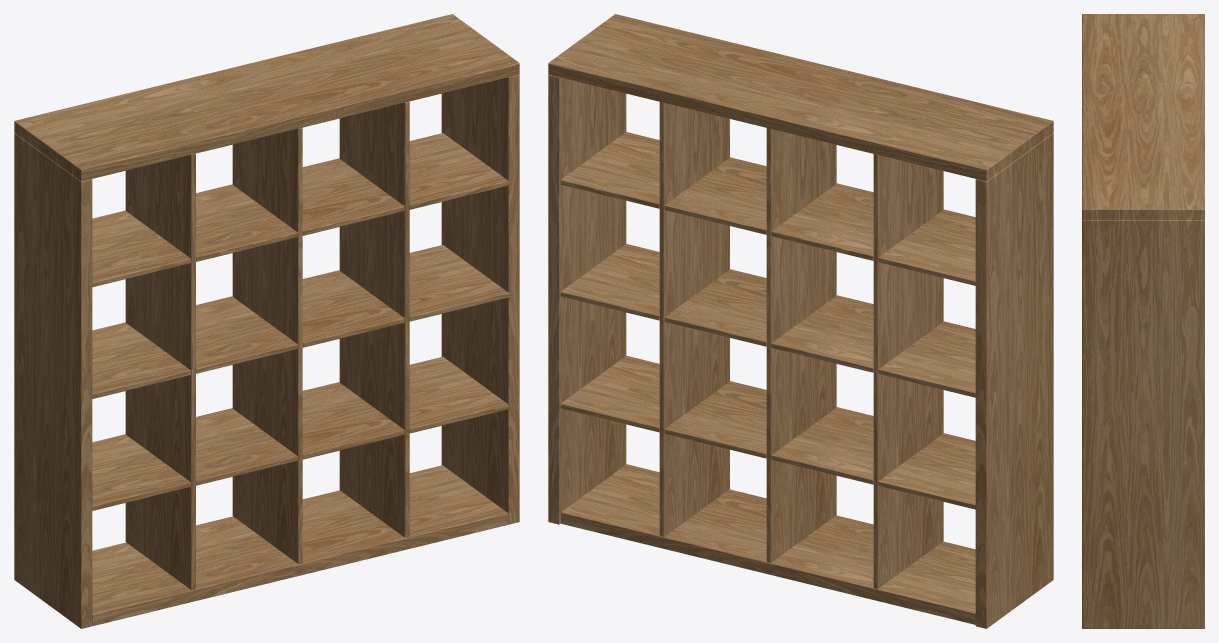
Rendered from estanteria_cubos_4x4.glb.
3 views of the same model, side by side, from view 1: azimuth 30°, elevation 25°; view 2: azimuth 150°, elevation 25°; view 3: azimuth 270°, elevation 25° (orthographic). The views are drawn at different scales.
Parts seen in each view (by area): view 1: estanteria_cubos_4x4; view 2: estanteria_cubos_4x4; view 3: estanteria_cubos_4x4.
Boxes of the visible parts, bbox=[...] form: estanteria_cubos_4x4: bbox=[14, 14, 519, 628]; estanteria_cubos_4x4: bbox=[548, 14, 1053, 628]; estanteria_cubos_4x4: bbox=[1082, 14, 1204, 628].
Bounding box in the file's own units: 1.47 × 1.47 × 0.39.
1 material, 1 textured.
